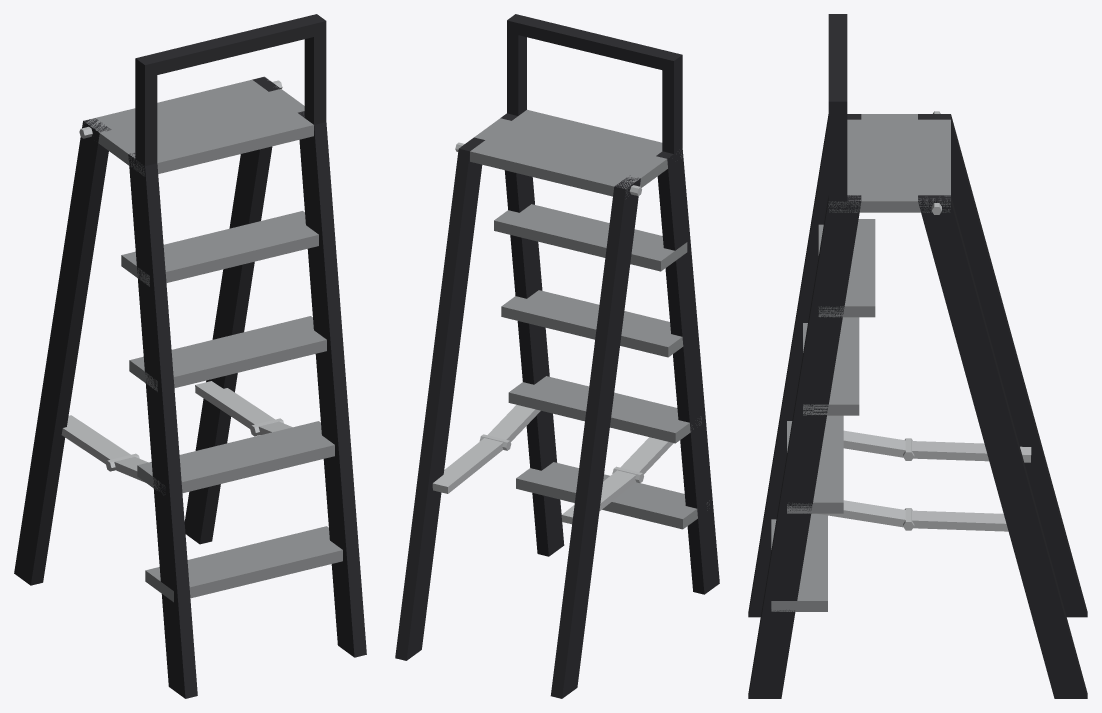
The model's file is FN_Ladder_Step.obj.
The picture shows the model from 3 angles, left to right: view 1: azimuth 30°, elevation 25°; view 2: azimuth 150°, elevation 25°; view 3: azimuth 270°, elevation 25°; orthographic projection. The views are drawn at different scales.
Parts seen in each view (by area): view 1: FN_Ladder_Step; view 2: FN_Ladder_Step; view 3: FN_Ladder_Step.
Part boxes in pixels (x1,y1,x2,y2): FN_Ladder_Step: [14, 14, 366, 698]; FN_Ladder_Step: [395, 14, 719, 698]; FN_Ladder_Step: [748, 14, 1087, 698].
Bounding box in the file's own units: 0.48 × 1.4 × 0.72.
Materials: 1 (1 with a texture image).
